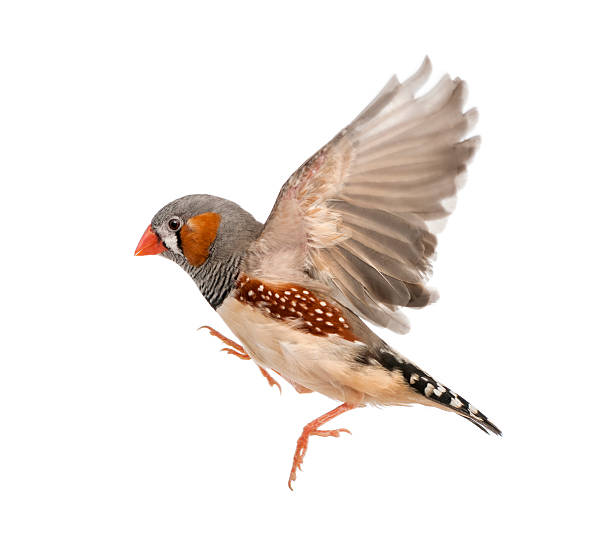Bird: (132, 50, 508, 492)
